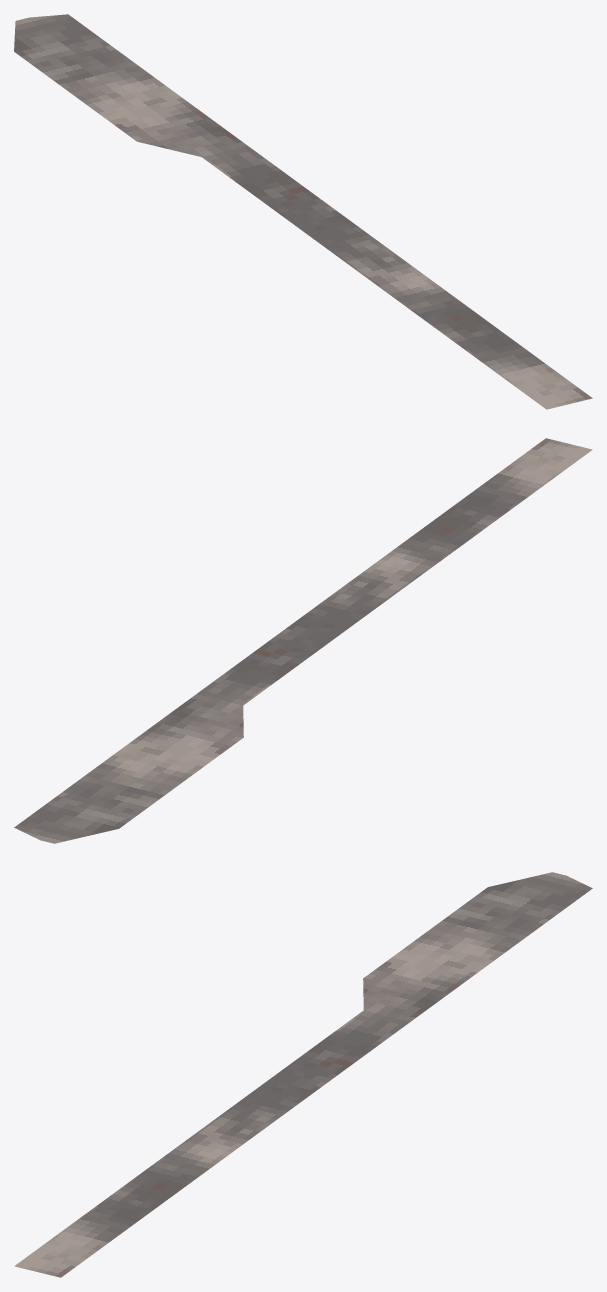
The model's file is knife.glb.
3 renders of one model, top to bottom at view 1: azimuth 30°, elevation 25°; view 2: azimuth 150°, elevation 25°; view 3: azimuth 330°, elevation 25°, orthographic.
Visible parts, largest first — view 1: knife; view 2: knife; view 3: knife.
Boxes of the visible parts, x1,y1,x2,y2 form: knife: [14, 14, 592, 409]; knife: [14, 438, 592, 843]; knife: [14, 872, 592, 1277].
Bounding box in the file's own units: 0.0964 × 0 × 1.12.
Materials: 1 (1 with a texture image).
